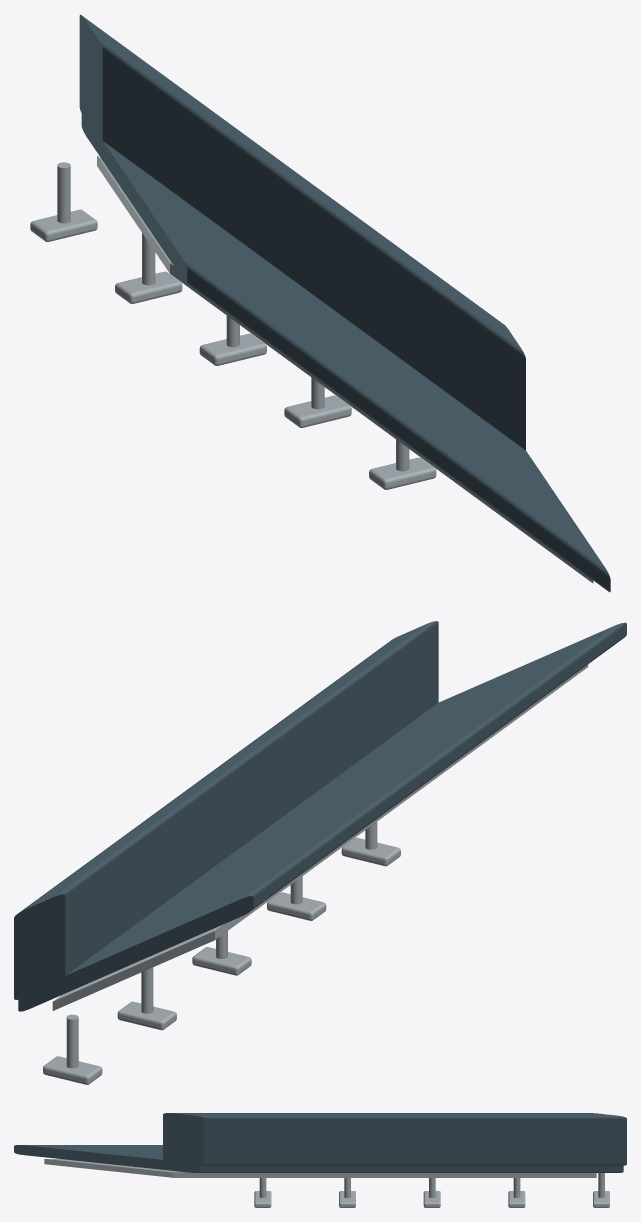
File: cabin_bench_length_500cm_left.glb
3 views of the same model, one above another, from view 1: azimuth 30°, elevation 25°; view 2: azimuth 150°, elevation 25°; view 3: azimuth 270°, elevation 25° (orthographic). The views are drawn at different scales.
Visible parts, largest first — view 1: Bench upright back.025, Bench seat cushion.025, Bench support beam.025, Bench foot.071, Bench foot.068, Bench foot.067, Bench foot.069, Bench foot.070, Bench pedestal.071; view 2: Bench upright back.025, Bench seat cushion.025, Bench support beam.025, Bench foot.070, Bench foot.067, Bench foot.068, Bench foot.071, Bench foot.069, Bench pedestal.071; view 3: Bench upright back.025, Bench seat cushion.025, Bench support beam.025, Bench foot.067, Bench foot.069, Bench foot.070, Bench foot.068, Bench foot.071, Bench pedestal.071, Bench pedestal.067, Bench pedestal.070.
Boxes of the visible parts, box(x1,y1,x2,y2) form: Bench upright back.025: box(79, 14, 525, 450); Bench seat cushion.025: box(81, 112, 610, 592); Bench support beam.025: box(97, 155, 593, 583); Bench foot.071: box(30, 209, 97, 241); Bench foot.068: box(284, 395, 351, 427); Bench foot.067: box(369, 457, 436, 489); Bench foot.069: box(199, 333, 266, 365); Bench foot.070: box(115, 271, 182, 303); Bench pedestal.071: box(57, 162, 70, 223); Bench upright back.025: box(14, 621, 438, 999); Bench seat cushion.025: box(18, 622, 626, 1011); Bench support beam.025: box(52, 664, 588, 1010); Bench foot.070: box(117, 1001, 176, 1030); Bench foot.067: box(341, 837, 400, 866); Bench foot.068: box(267, 892, 326, 920); Bench foot.071: box(43, 1056, 102, 1084); Bench foot.069: box(192, 947, 251, 975); Bench pedestal.071: box(66, 1014, 78, 1068); Bench upright back.025: box(163, 1113, 626, 1165); Bench seat cushion.025: box(14, 1145, 623, 1172); Bench support beam.025: box(44, 1159, 596, 1177); Bench foot.067: box(254, 1191, 271, 1207); Bench foot.069: box(423, 1191, 440, 1207); Bench foot.070: box(508, 1191, 525, 1207); Bench foot.068: box(339, 1191, 355, 1207); Bench foot.071: box(593, 1191, 609, 1207); Bench pedestal.071: box(598, 1173, 604, 1197); Bench pedestal.067: box(259, 1178, 266, 1197); Bench pedestal.070: box(513, 1178, 520, 1197).
Bounding box in the file's own units: 0.56 × 1.25 × 7.24.
